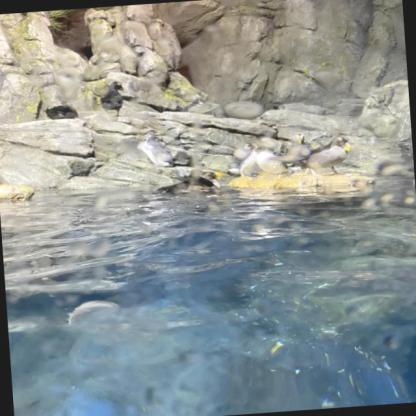puffin: (302, 135, 352, 177), (269, 132, 317, 172), (137, 128, 176, 169), (89, 79, 127, 117), (225, 146, 268, 178), (254, 146, 290, 176), (182, 166, 220, 191), (44, 103, 79, 121), (231, 142, 257, 162)
